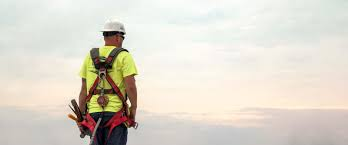hard hat: (99, 16, 129, 33)
